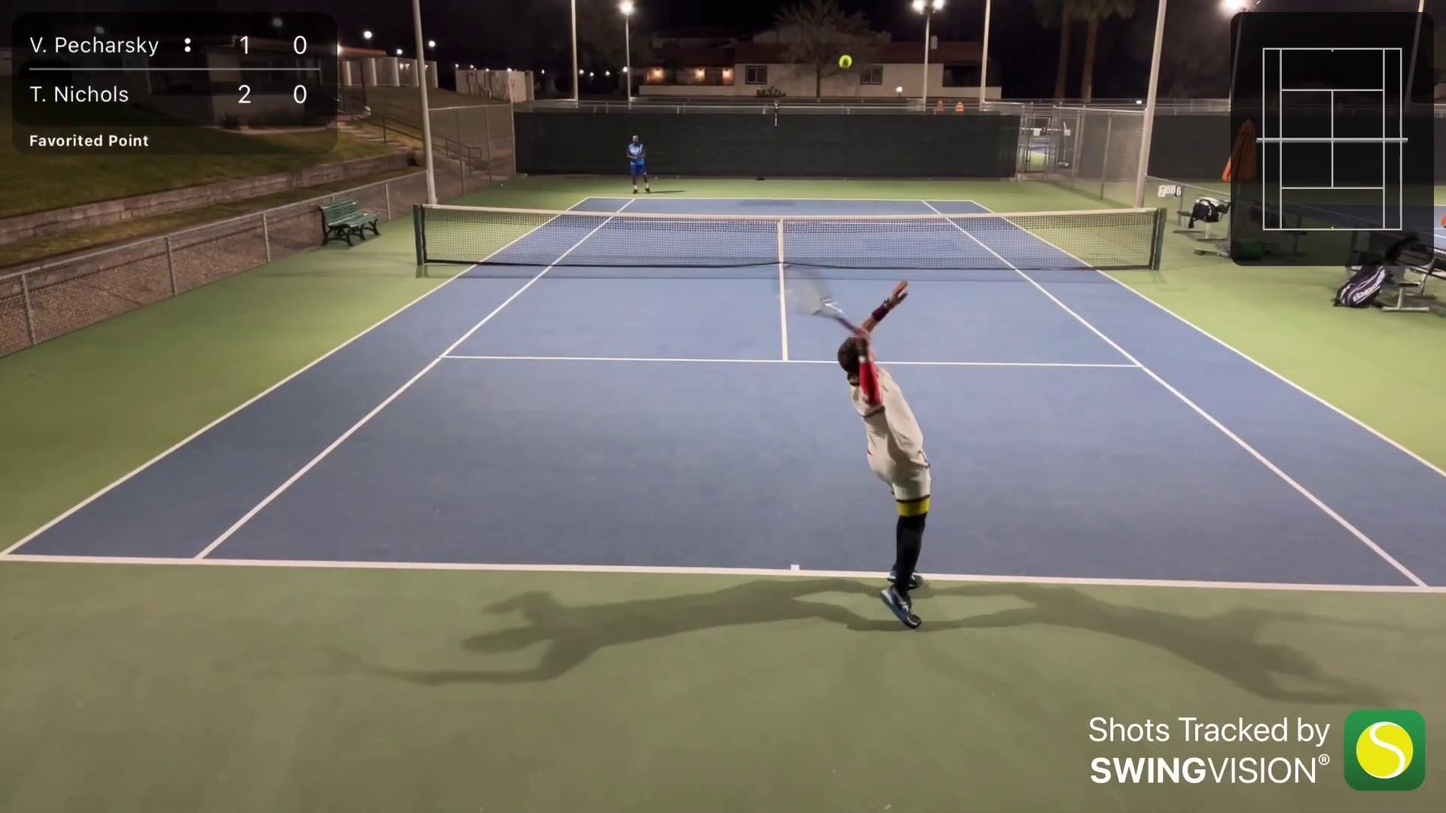ball: (833, 53, 854, 73)
